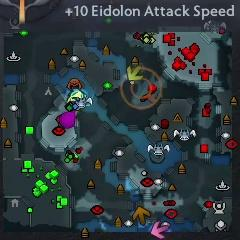p3: (59, 110, 76, 128)
p4: (68, 92, 81, 103)
x1: (151, 221, 169, 239)
x2: (127, 65, 143, 81)
x5: (133, 206, 150, 225)
